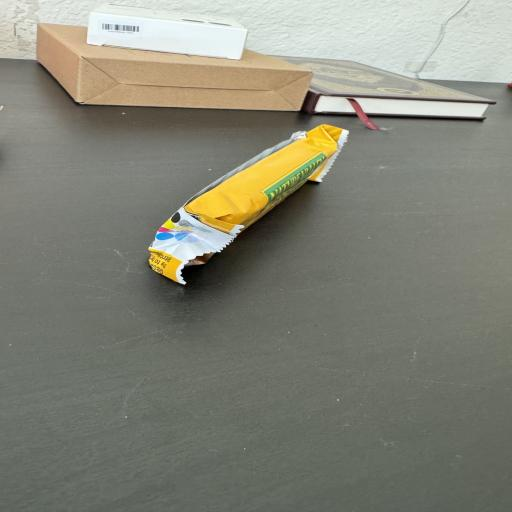granola: (149, 125, 348, 283)
